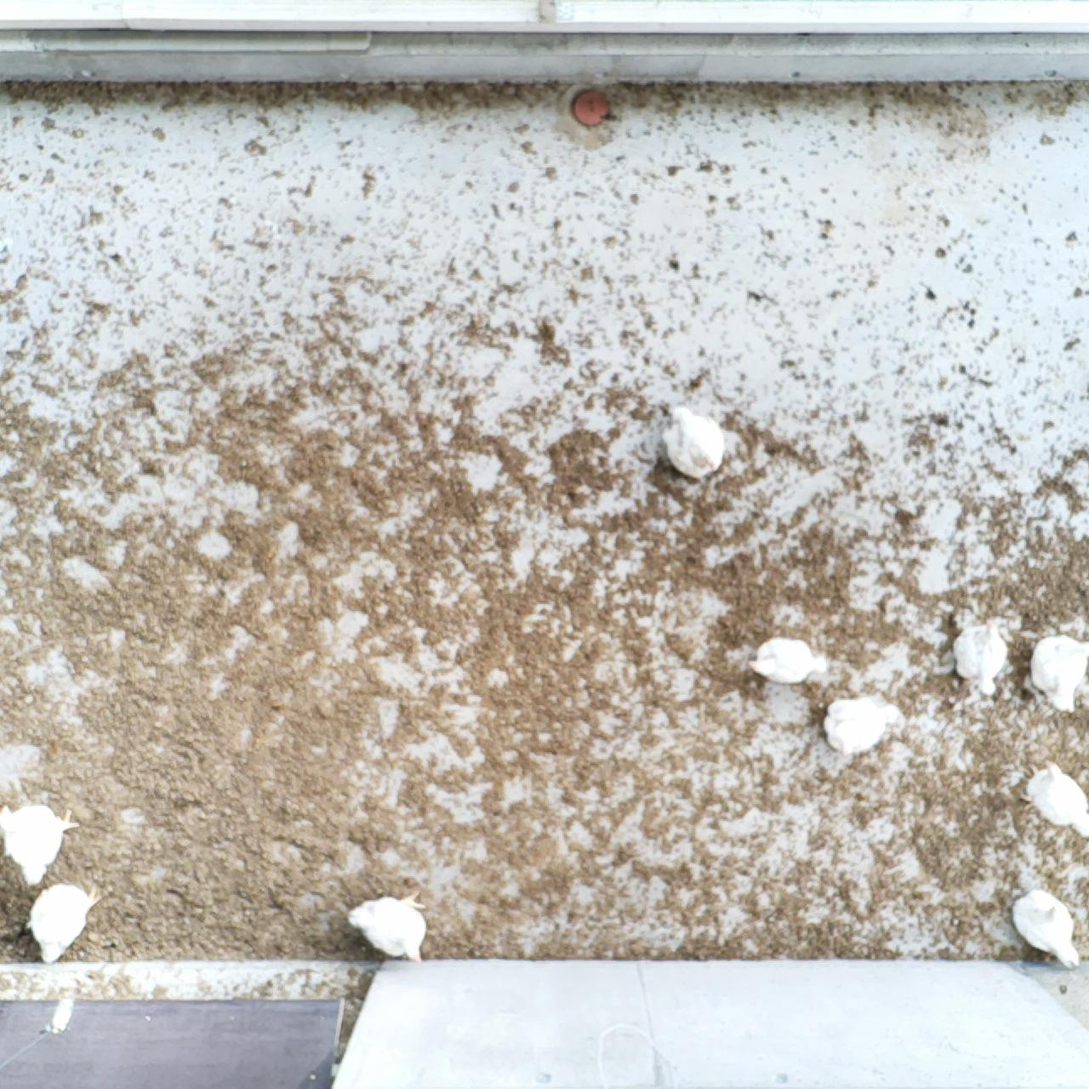chicken: (0, 800, 83, 888), (26, 877, 100, 968), (348, 890, 431, 967), (1010, 884, 1083, 970), (948, 617, 1018, 700), (659, 400, 731, 479), (1028, 628, 1089, 716), (1024, 759, 1089, 835), (823, 694, 899, 759), (747, 636, 832, 687)
